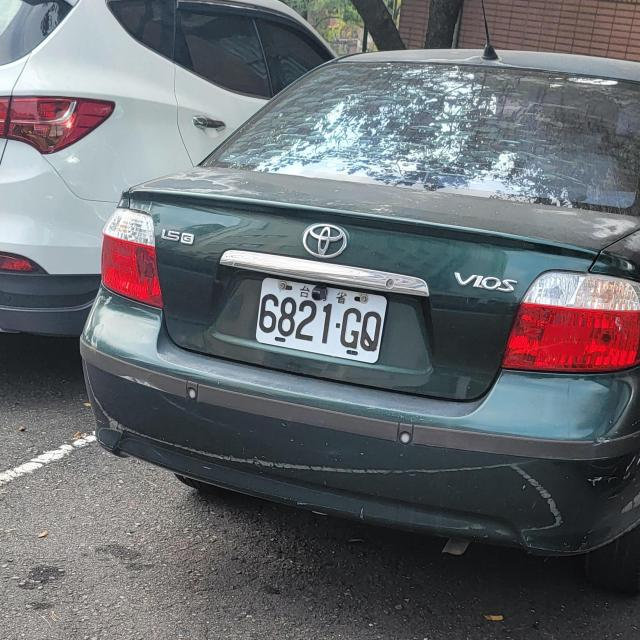W: (253, 274, 389, 364)
